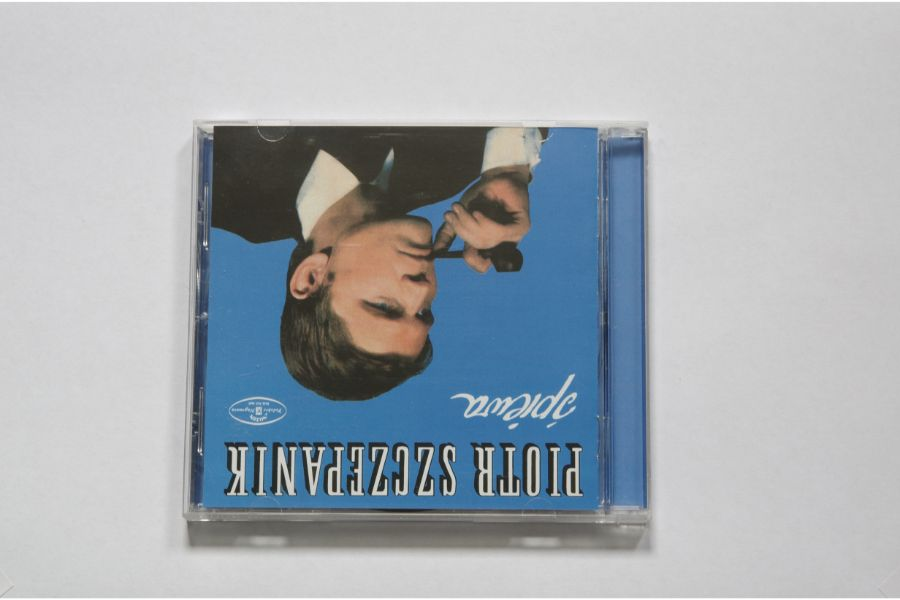album: (182, 116, 652, 527)
